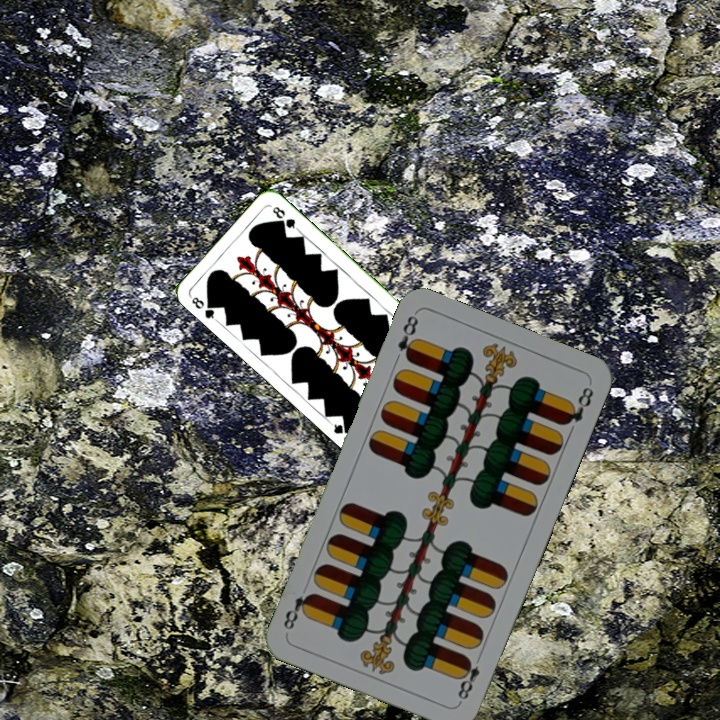E8: (453, 653, 483, 705), (393, 311, 421, 365)
G8: (186, 293, 220, 324)
